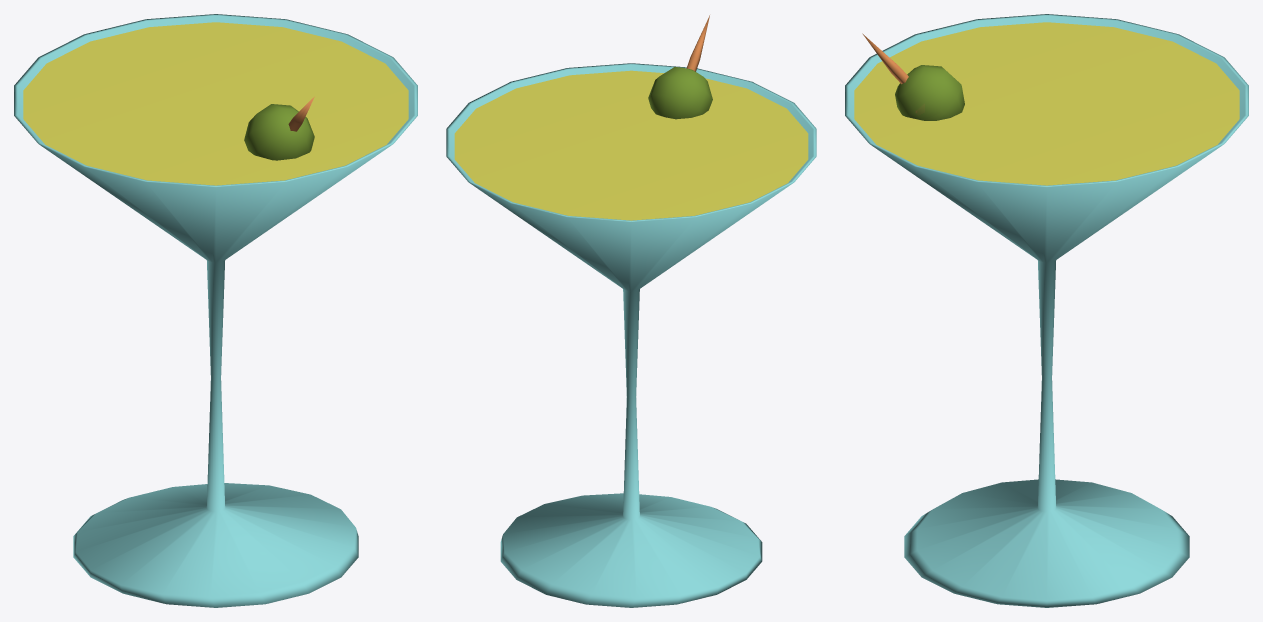
The model's file is martini.FBX.
3 renders of one model, left to right at view 1: azimuth 30°, elevation 25°; view 2: azimuth 150°, elevation 25°; view 3: azimuth 270°, elevation 25°, orthographic. The views are drawn at different scales.
Visible parts, largest first — view 1: glas, drank, olijven; view 2: glas, drank, olijven; view 3: glas, drank, olijven.
Boxes of the visible parts, bbox=[...] form: glas: bbox=[14, 14, 417, 607]; drank: bbox=[23, 22, 408, 185]; olijven: bbox=[244, 96, 314, 160]; glas: bbox=[446, 63, 816, 607]; drank: bbox=[454, 70, 808, 220]; olijven: bbox=[648, 15, 712, 119]; glas: bbox=[845, 14, 1248, 607]; drank: bbox=[854, 22, 1239, 185]; olijven: bbox=[862, 33, 964, 120].
Size of the model in its own units: 80.97 by 113 by 79.74.
